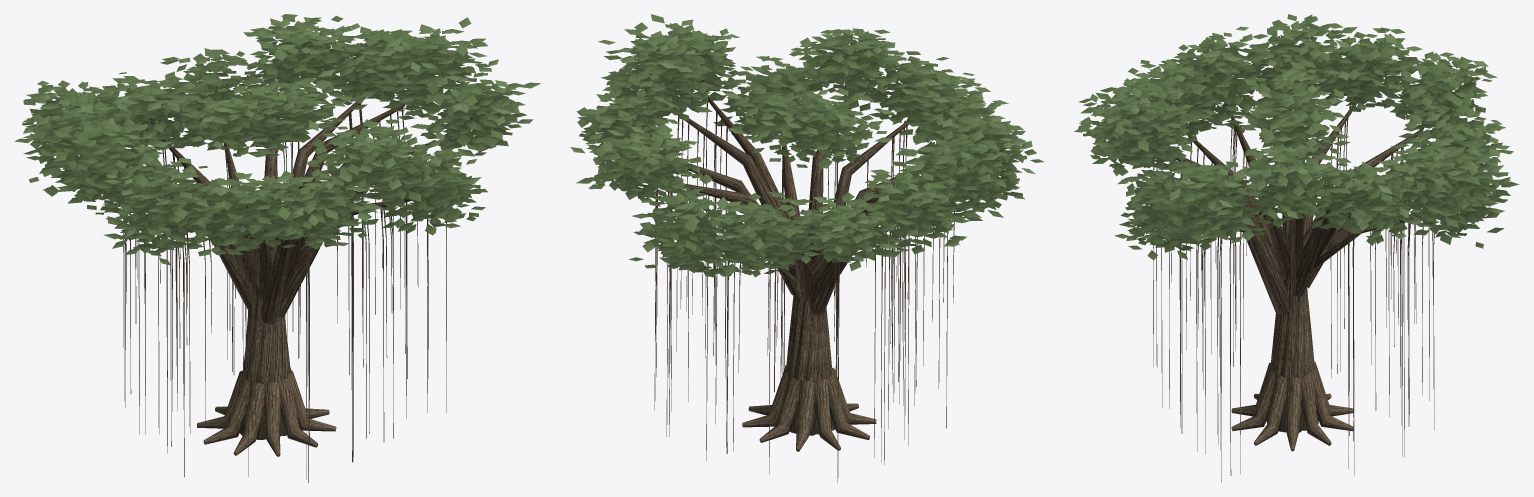
The model's file is prop_banyan_tree.glb.
3 views of the same model, side by side, from view 1: azimuth 30°, elevation 25°; view 2: azimuth 150°, elevation 25°; view 3: azimuth 270°, elevation 25° (orthographic). The views are drawn at different scales.
Visible parts, largest first — view 1: prop_banyan_tree; view 2: prop_banyan_tree; view 3: prop_banyan_tree.
Boxes of the visible parts, box(x1,y1,x2,y2) form: prop_banyan_tree: box(14, 14, 540, 482); prop_banyan_tree: box(570, 14, 1043, 482); prop_banyan_tree: box(1074, 14, 1519, 482).
Bounding box in the file's own units: 15 × 12 × 14.
Materials: 3 (3 with a texture image).
